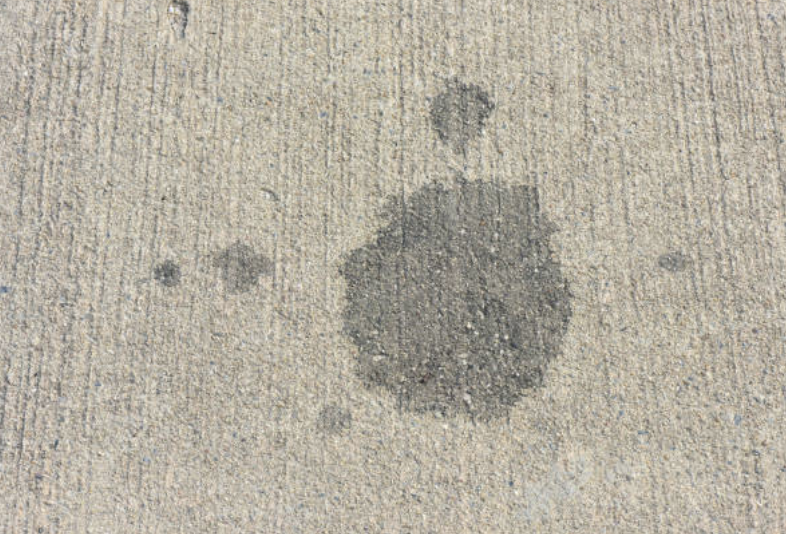oil: (167, 87, 289, 210), (214, 40, 248, 78), (105, 118, 136, 145), (328, 123, 345, 137), (77, 132, 89, 144)
